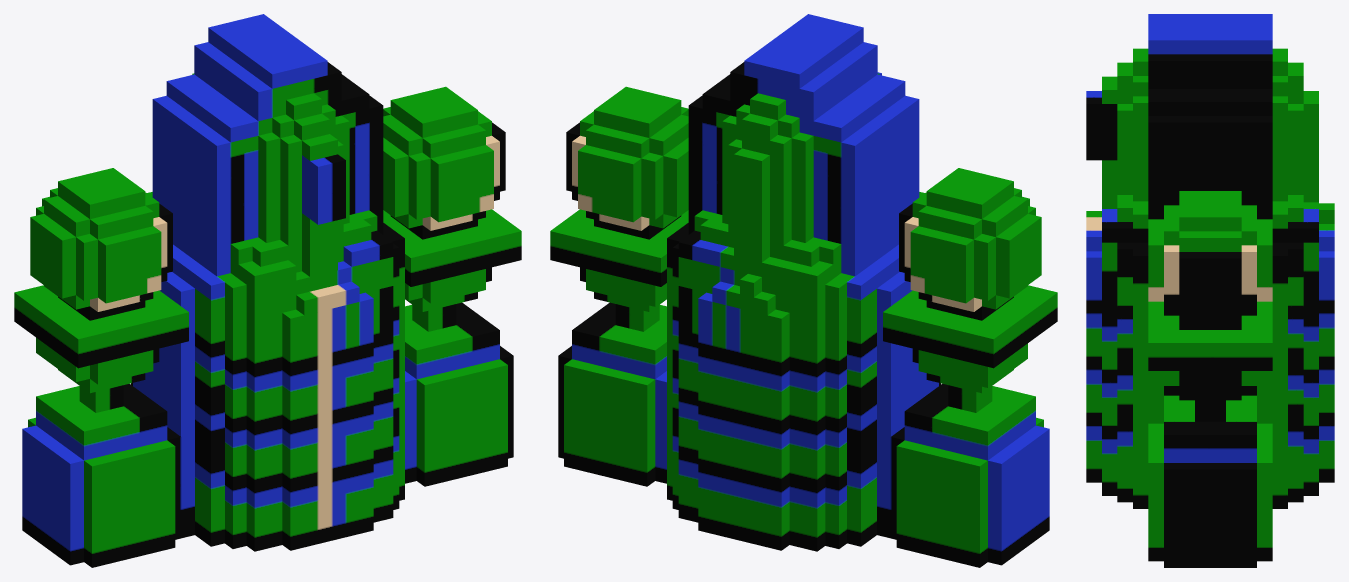
The model's file is TempleOrnamentGreen.obj.
3 views of the same model, side by side, from view 1: azimuth 30°, elevation 25°; view 2: azimuth 150°, elevation 25°; view 3: azimuth 270°, elevation 25° (orthographic). The views are drawn at different scales.
Visible parts, largest first — view 1: Matrix; view 2: Matrix; view 3: Matrix.
Boxes of the visible parts, x1,y1,x2,y2 form: Matrix: (14,14,521,567); Matrix: (550,14,1057,567); Matrix: (1086,14,1334,567).
Size of the model in its own units: 3.2 by 3.1 by 1.6.
1 material, 1 textured.
